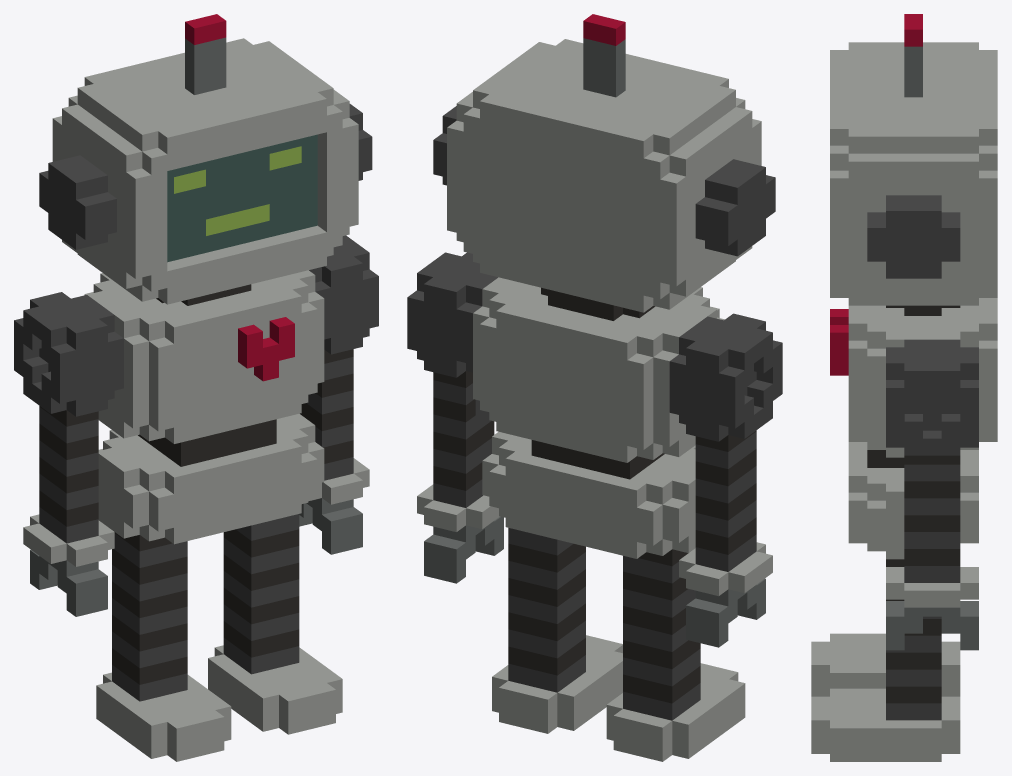
Rendered from player_main_idle_0.fbx.
3 views of the same model, side by side, from view 1: azimuth 30°, elevation 25°; view 2: azimuth 150°, elevation 25°; view 3: azimuth 270°, elevation 25° (orthographic). The views are drawn at different scales.
Parts seen in each view (by area): view 1: model_2; view 2: model_2; view 3: model_2.
Boxes of the visible parts, x1,y1,x2,y2 form: model_2: [14, 14, 378, 761]; model_2: [407, 14, 782, 761]; model_2: [811, 14, 997, 761].
Size of the model in its own units: 200 by 100 by 410.
